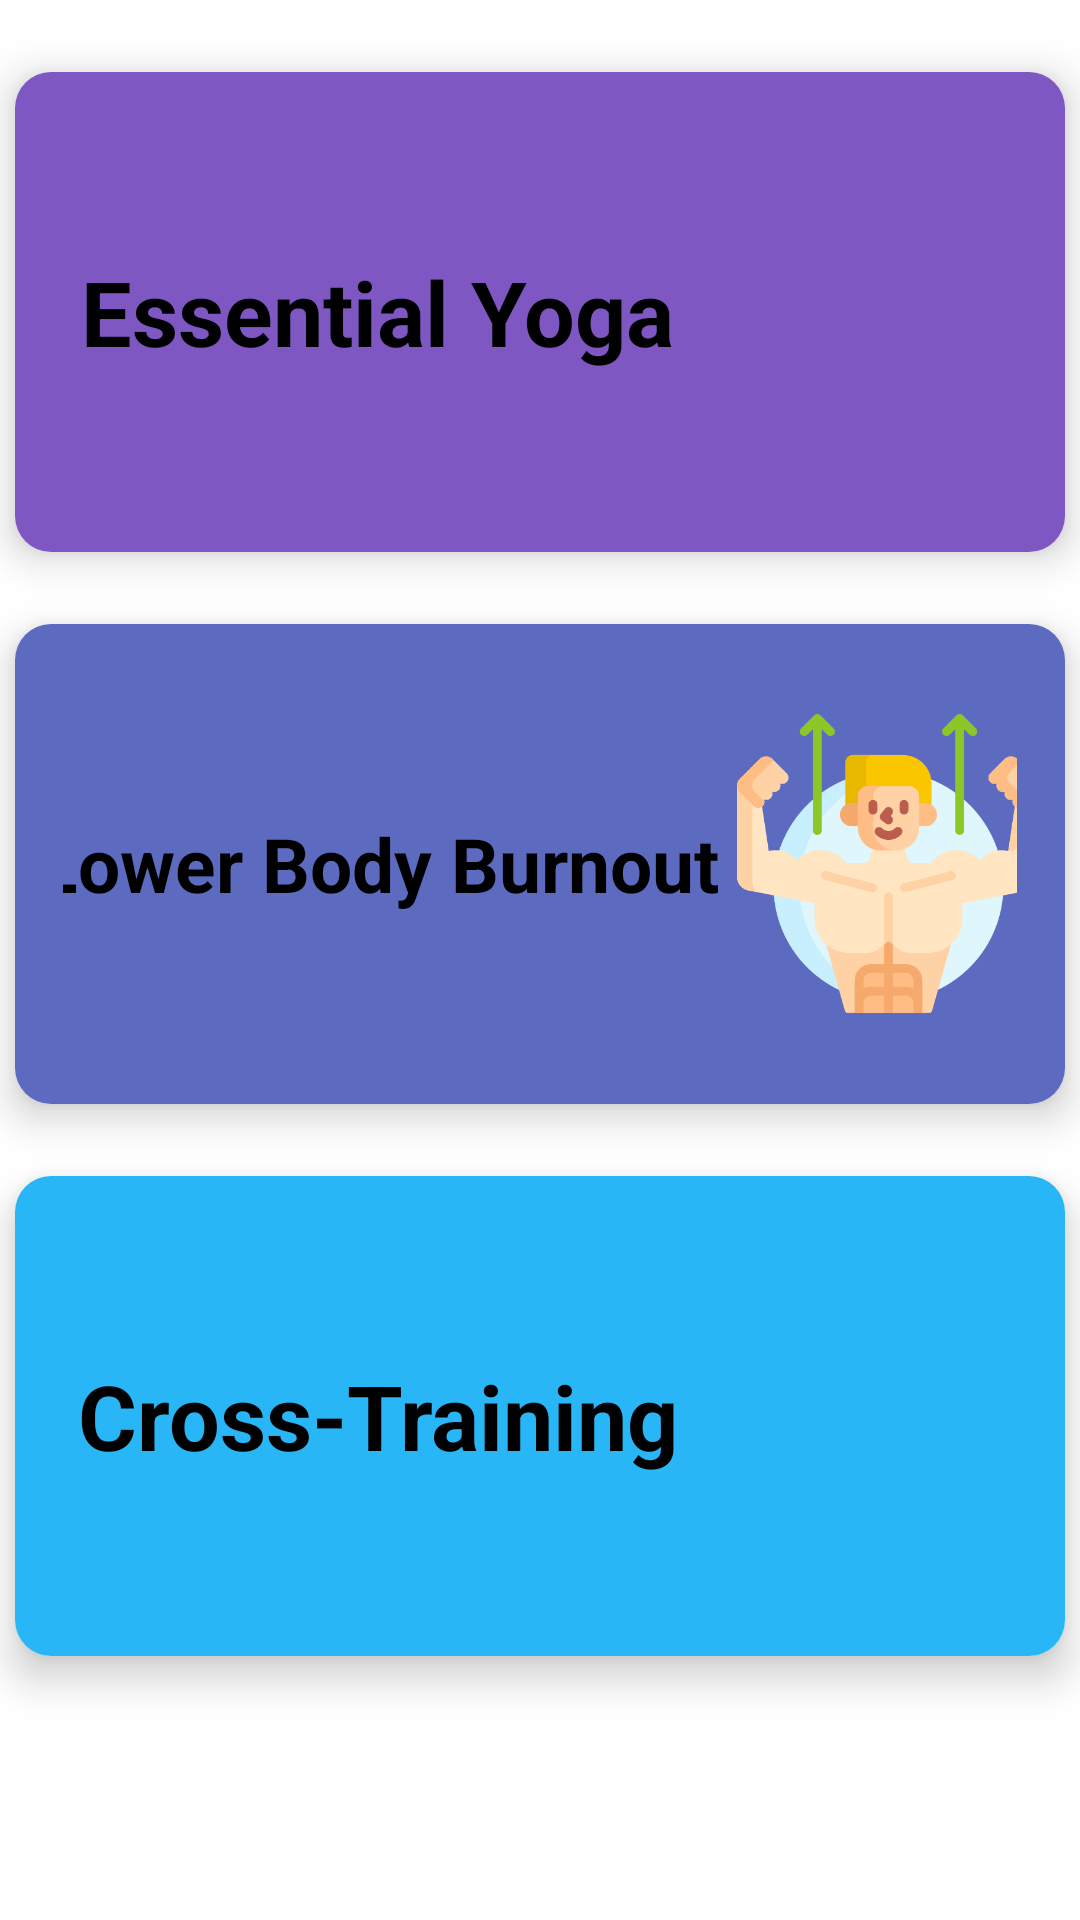

Icons on this 1080×1920 Android screen, each with the point to tap as (x=x, y=y):
muscle: (x=877, y=863)
